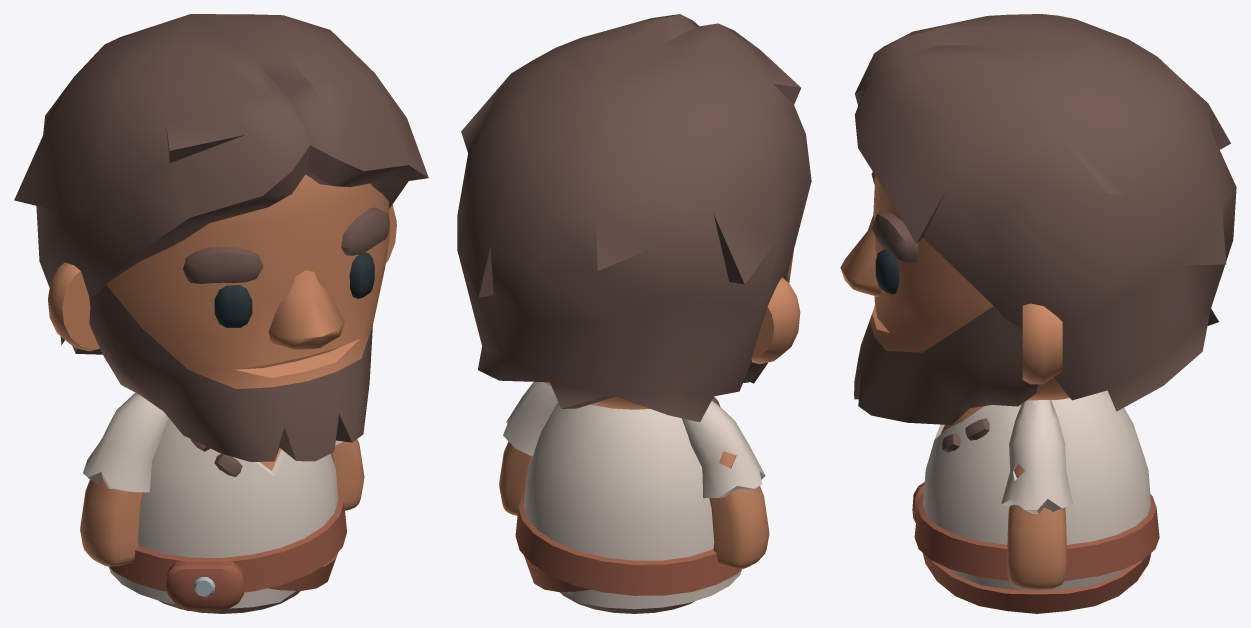
Rendered from character_villager_male1.gltf.
The picture shows the model from 3 angles, left to right: view 1: azimuth 30°, elevation 25°; view 2: azimuth 150°, elevation 25°; view 3: azimuth 270°, elevation 25°; orthographic projection. The views are drawn at different scales.
Parts seen in each view (by area): view 1: character_villager_male1_head, character_villager_male1_body, character_villager_male1_armRight, character_villager_male1_armLeft; view 2: character_villager_male1_head, character_villager_male1_body, character_villager_male1_armRight, character_villager_male1_armLeft; view 3: character_villager_male1_head, character_villager_male1_body, character_villager_male1_armLeft.
Boxes of the visible parts, x1,y1,x2,y2 form: character_villager_male1_head: [14, 14, 428, 461]; character_villager_male1_body: [109, 418, 346, 613]; character_villager_male1_armRight: [80, 393, 168, 566]; character_villager_male1_armLeft: [331, 439, 364, 510]; character_villager_male1_head: [457, 14, 811, 422]; character_villager_male1_body: [515, 396, 741, 613]; character_villager_male1_armRight: [682, 401, 769, 568]; character_villager_male1_armLeft: [499, 382, 558, 515]; character_villager_male1_head: [840, 14, 1236, 424]; character_villager_male1_body: [912, 390, 1159, 613]; character_villager_male1_armLeft: [1001, 400, 1073, 589].
Bounding box in the file's own units: 1.18 × 1.81 × 1.2.
